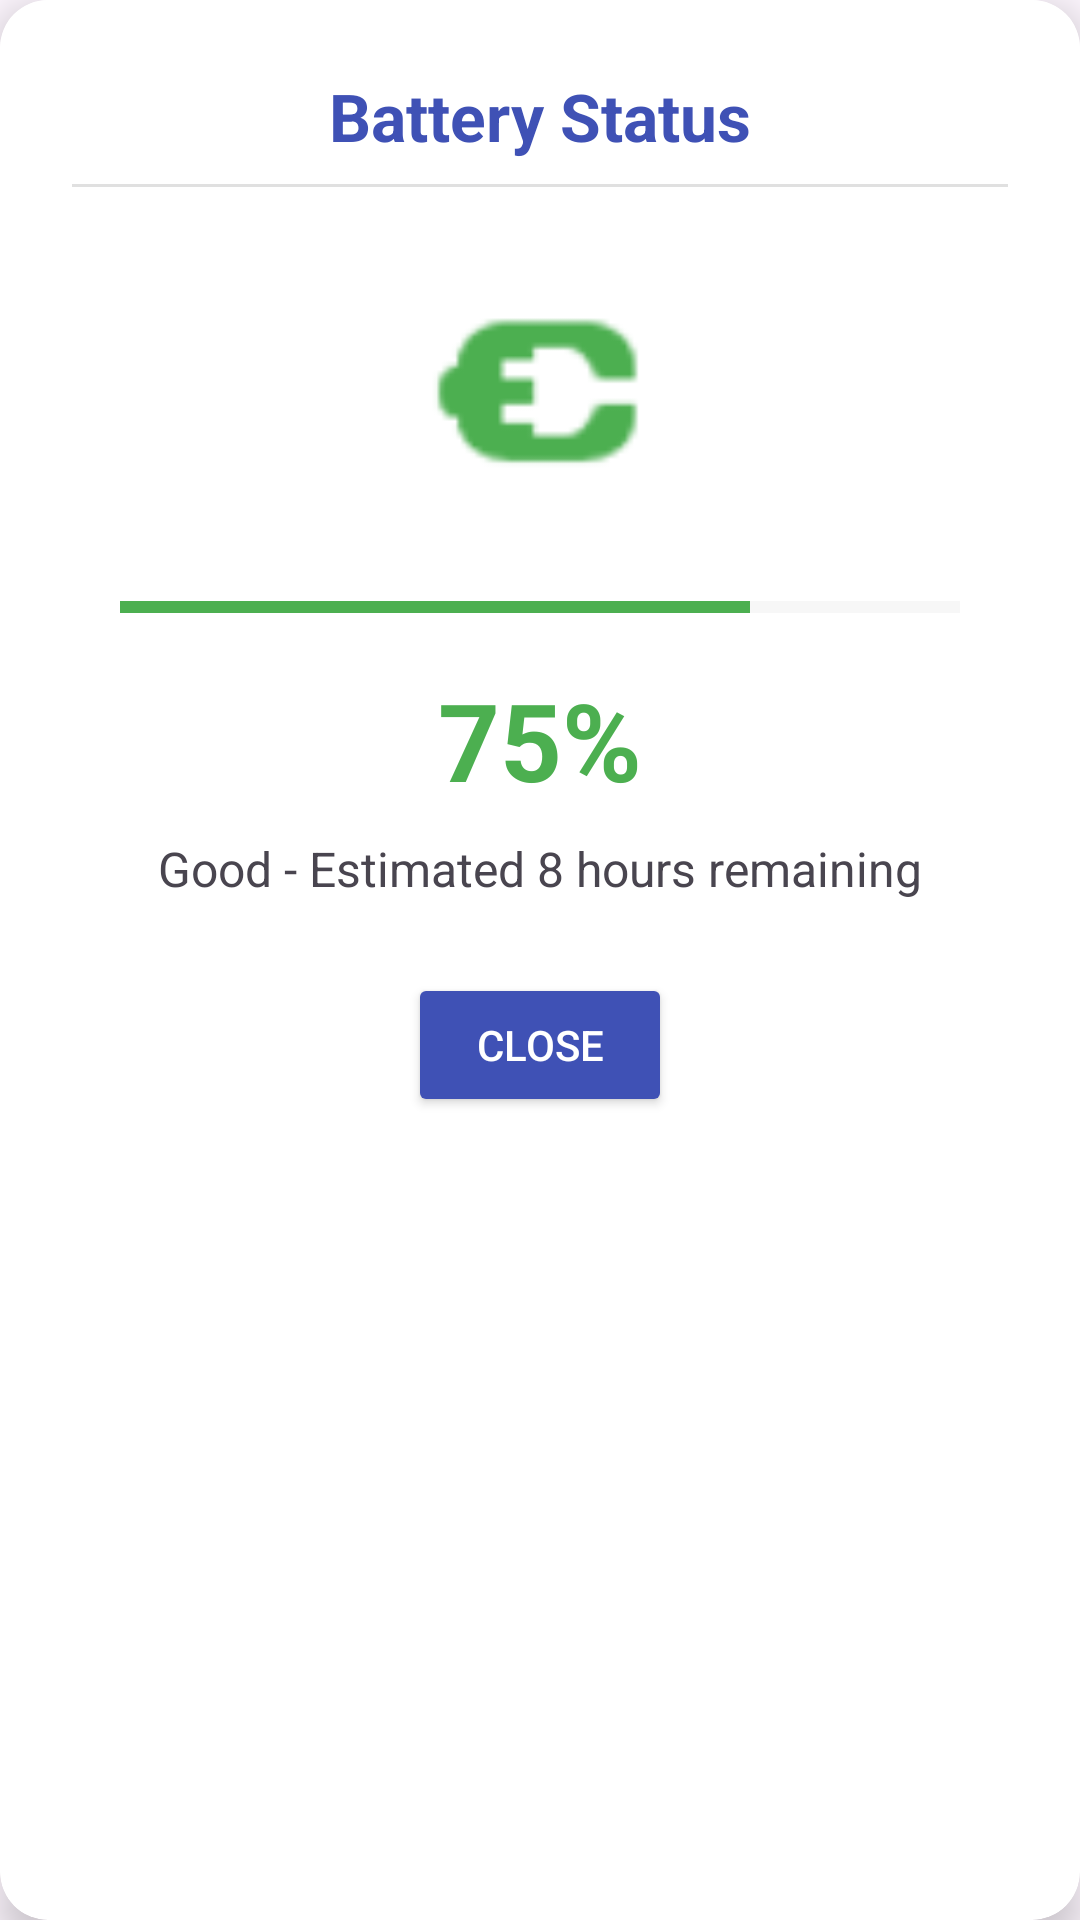

Screen size 1080w x 1920h. Icon name, then its box in pixels as (x1, y1, x2, y2):
lock idle charging: (437, 319, 638, 463)
